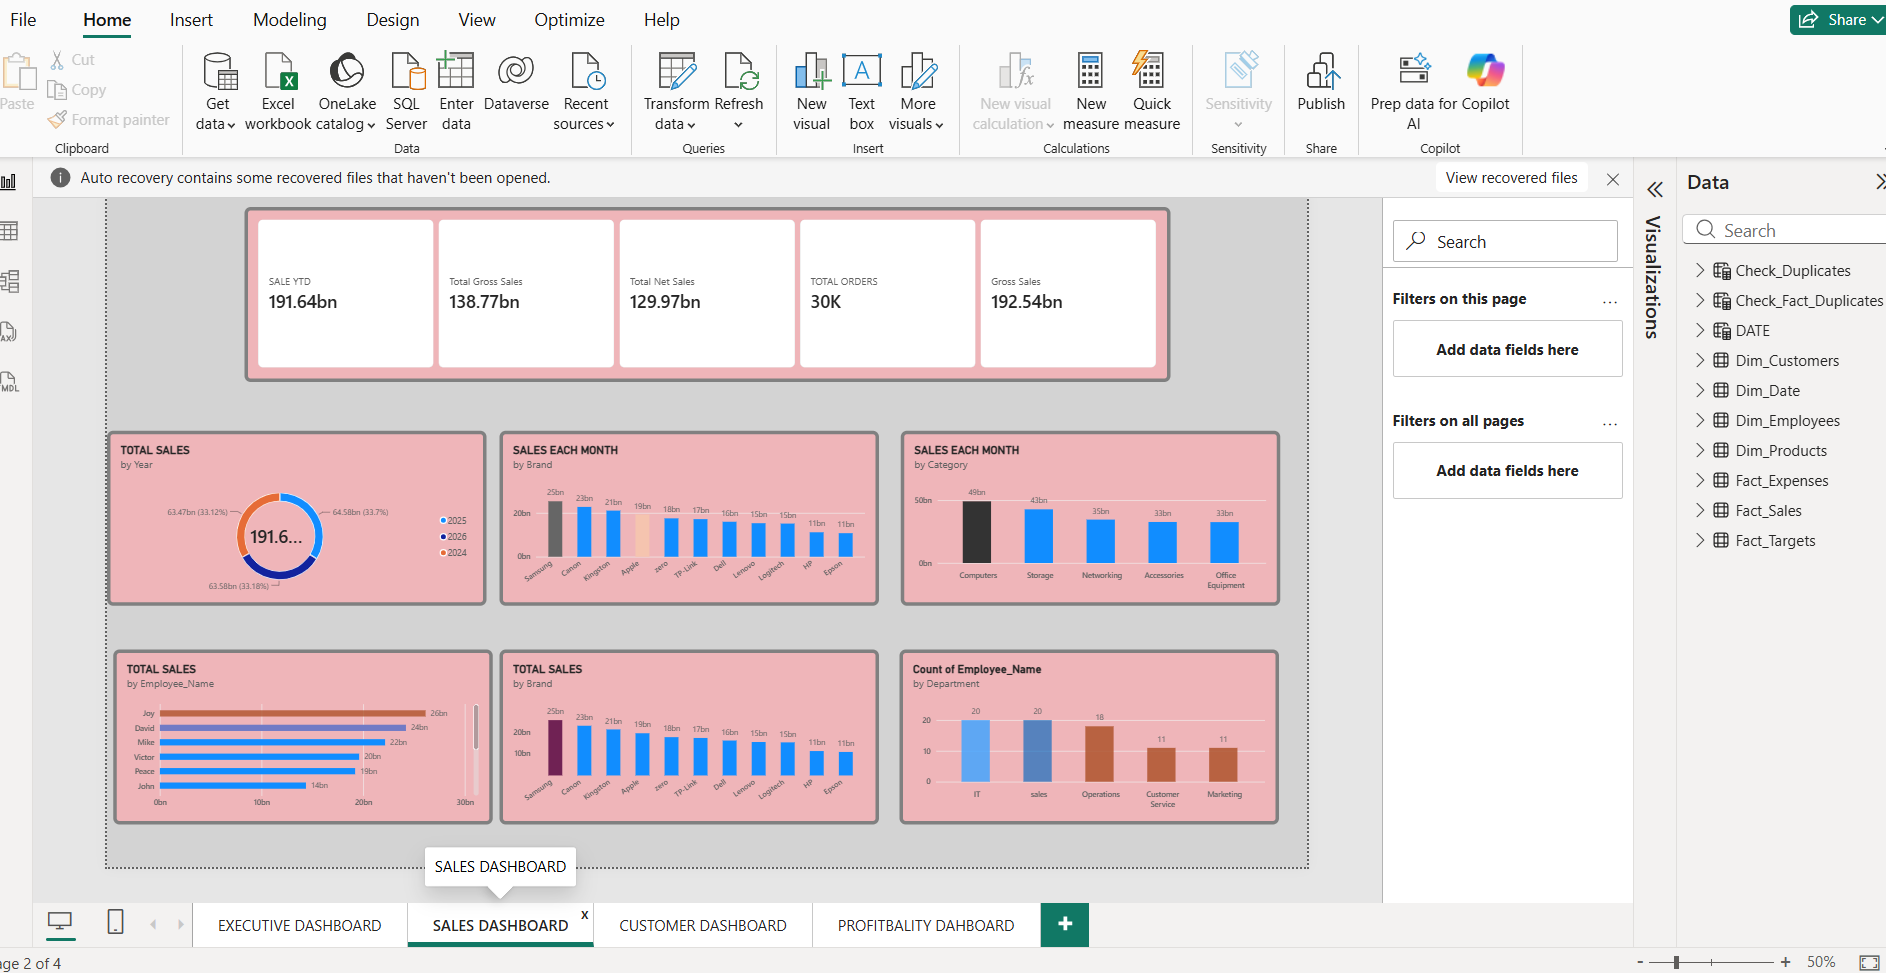

This screenshot's page, from the dashboard's own definition file:
{"tool":"powerbi","page":{"name":"SALES DASHBOARD ","canvas":[1920,1080],"ordinal":1},"visuals":[{"type":"columnChart","fields":{"Category":["Dim_Products.Brand"],"Y":["DATE.TOTAL SALES"]},"box":[627.8,732.8,607.2,279.9],"z":0},{"type":"donutChart","fields":{"Category":["DATE.Year"],"Y":["DATE.TOTAL SALES"]},"box":[0,382.8,607,280],"z":1000},{"type":"columnChart","fields":{"Category":["Dim_Products.Brand"],"Y":["DATE.SALES EACH MONTH"]},"box":[627.8,382.8,607,280],"z":2000},{"type":"columnChart","fields":{"Category":["Dim_Products.Category"],"Y":["DATE.SALES EACH MONTH"]},"box":[1270,382.8,607,280],"z":3000},{"type":"clusteredBarChart","fields":{"Category":["Dim_Employees.Employee_Name"],"Y":["DATE.TOTAL SALES"]},"box":[10.3,732.8,607,280],"z":4000},{"type":"clusteredColumnChart","fields":{"Category":["Dim_Employees.Department"],"Y":["CountNonNull(Dim_Employees.Employee_Name)"]},"box":[1267.9,732.8,607,280],"z":5000},{"type":"cardVisual","fields":{"Data":["DATE.SALE YTD","DATE.Total Gross Sales","DATE.Total Net Sales","DATE.TOTAL ORDERS","DATE.Gross Sales"]},"box":[220.2,24.7,1482,279.9],"z":6000}]}

Visuals, with their boxes on the page's 1920x1080 design canvas (x1, y1, x2, y2). These are canvas units, not pixel positions in the 1886x973 screenshot, which may show the page scaled, cropped or inside an application window:
columnChart - Dim_Products.Brand x DATE.TOTAL SALES: rect(628, 733, 1235, 1013)
donutChart - DATE.Year x DATE.TOTAL SALES: rect(0, 383, 607, 663)
columnChart - Dim_Products.Brand x DATE.SALES EACH MONTH: rect(628, 383, 1235, 663)
columnChart - Dim_Products.Category x DATE.SALES EACH MONTH: rect(1270, 383, 1877, 663)
clusteredBarChart - Dim_Employees.Employee_Name x DATE.TOTAL SALES: rect(10, 733, 617, 1013)
clusteredColumnChart - Dim_Employees.Department x CountNonNull(Dim_Employees.Employee_Name): rect(1268, 733, 1875, 1013)
cardVisual - DATE.SALE YTD x DATE.Total Gross Sales: rect(220, 25, 1702, 305)
